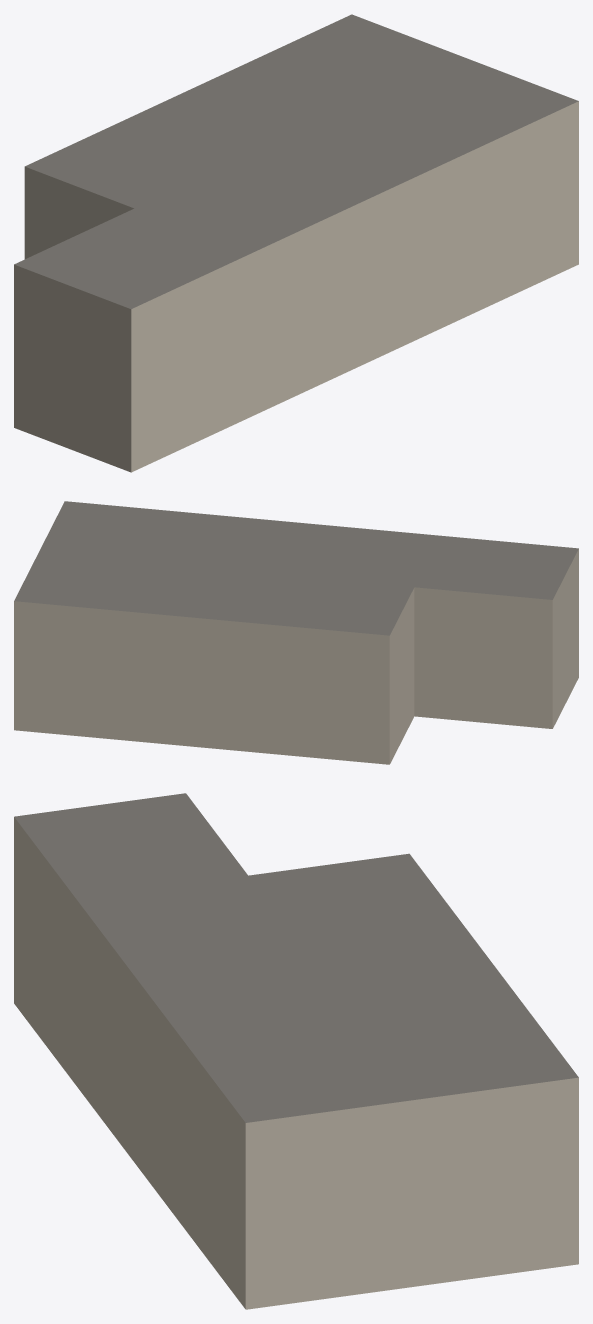
The picture shows the model from 3 angles, top to bottom: view 1: azimuth 30°, elevation 25°; view 2: azimuth 150°, elevation 25°; view 3: azimuth 270°, elevation 25°; orthographic projection. The views are drawn at different scales.
Visible parts, largest first — view 1: HP-w1201229327; view 2: HP-w1201229327; view 3: HP-w1201229327.
Part boxes in pixels (box(x1,y1,x2,y2)): HP-w1201229327: box(14, 14, 578, 472); HP-w1201229327: box(14, 501, 578, 764); HP-w1201229327: box(14, 793, 578, 1309).
Size of the model in its own units: 68.18 by 18 by 49.35.
